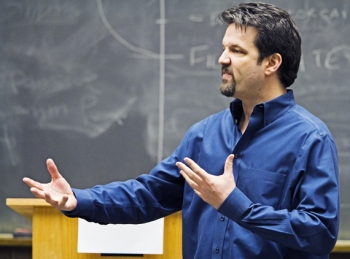hand: (175, 154, 234, 209), (22, 157, 77, 212)
